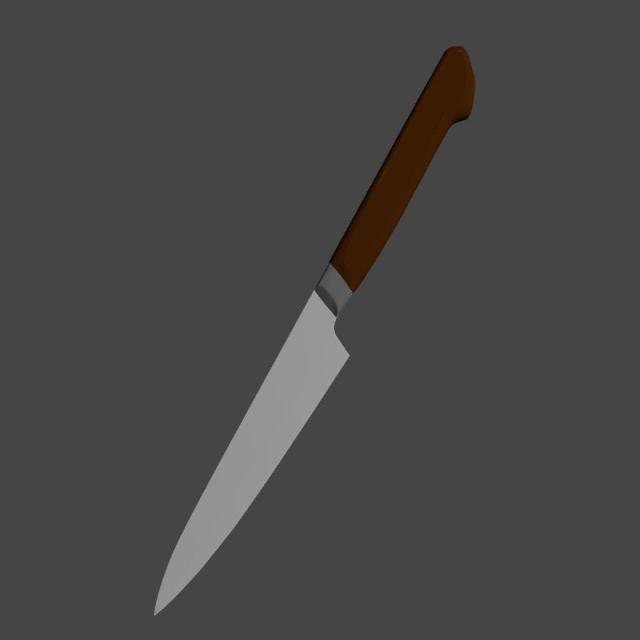knife: (328, 46, 476, 294)
